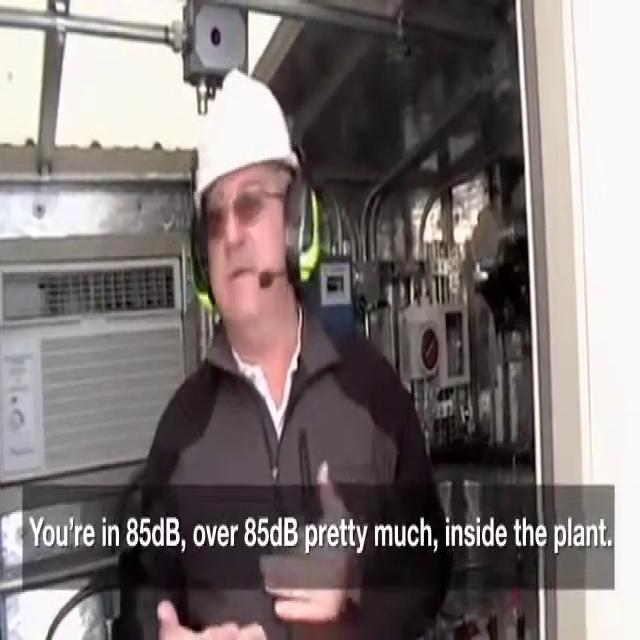earmuff: (282, 174, 322, 296), (190, 203, 218, 317)
helmet: (188, 64, 306, 214)
